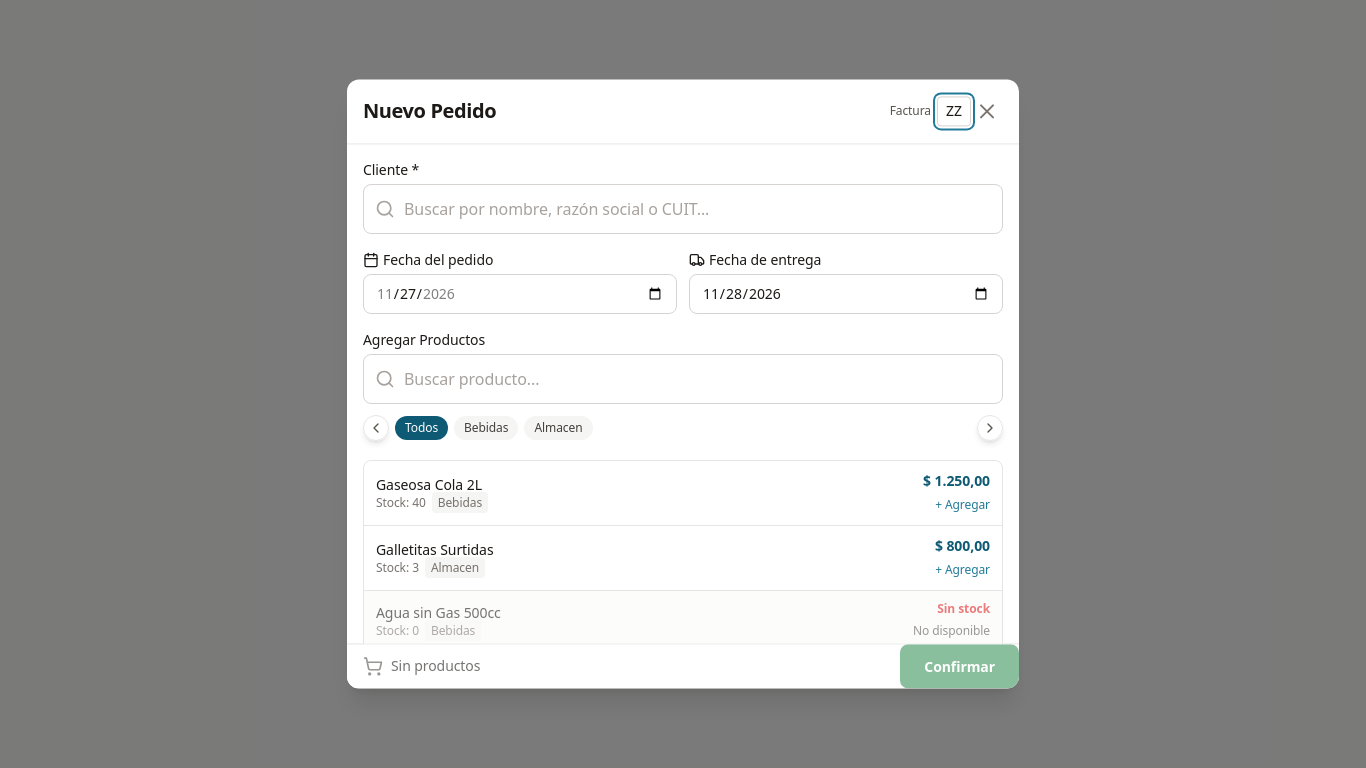
it: ModalPedido — camino feliz › el cajón del carrito se abre y se cierra desde el botón que cuenta las unidades
Type "Gaseosa" into the field with placeholder "Buscar producto..." at (683, 379), box [363, 354, 1003, 404]
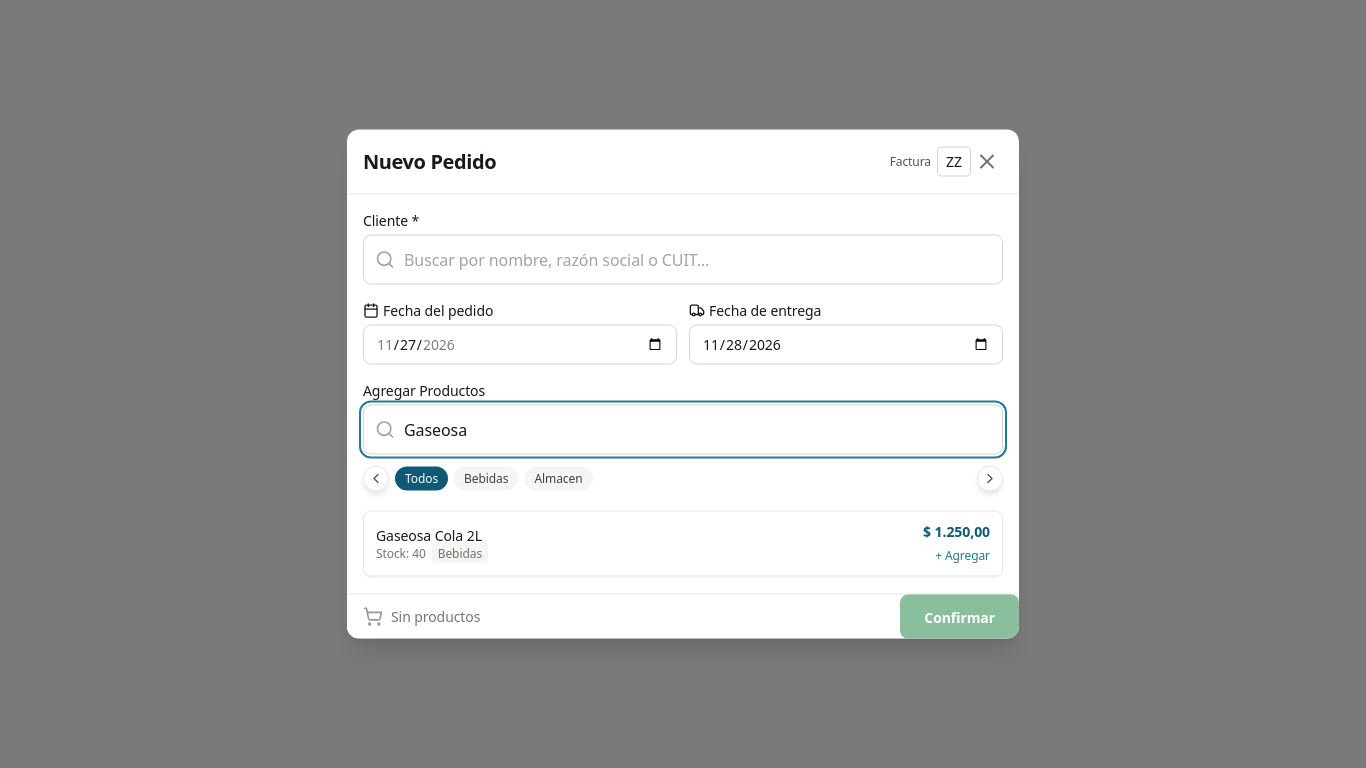
Click the text "+ Agregar" at (963, 555), box [935, 546, 990, 564]
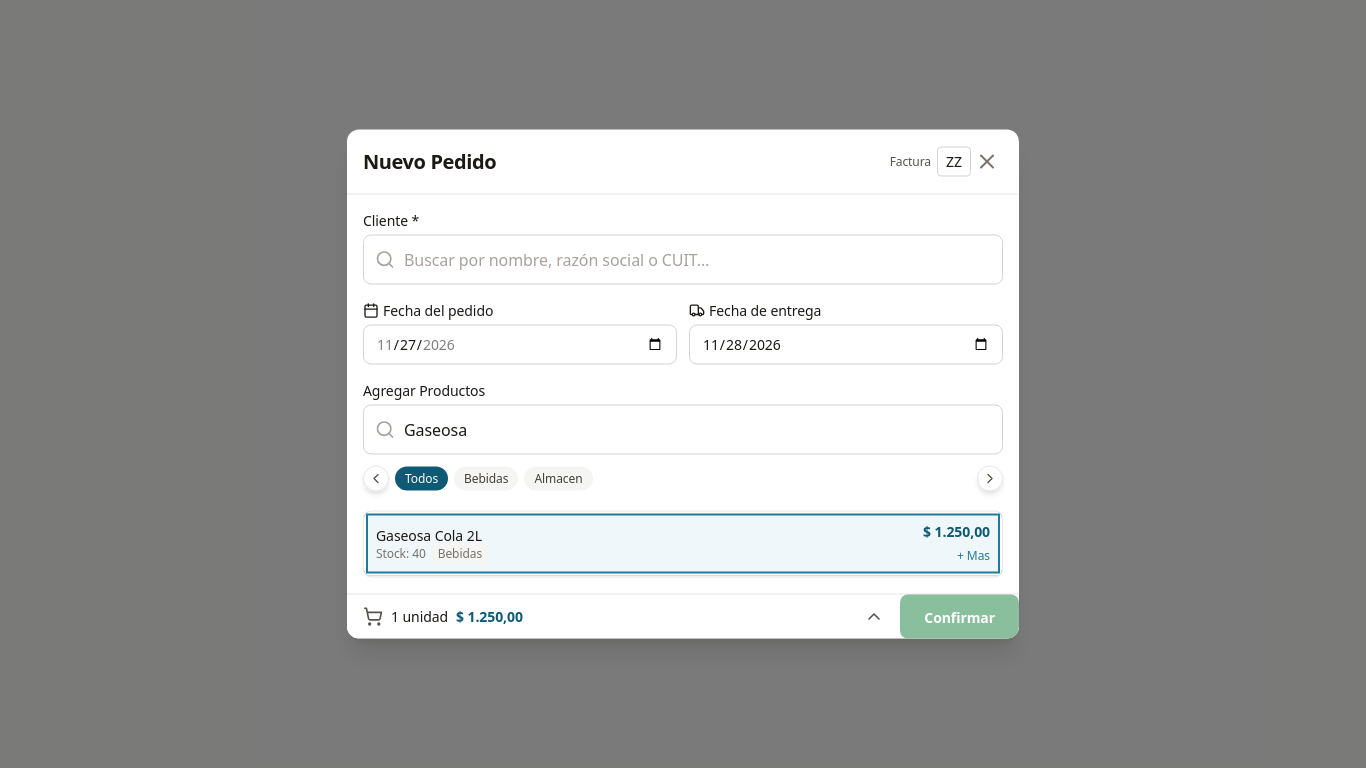
Click the button "1 unidad $ 1.250,00" at (420, 616), box [347, 594, 900, 638]
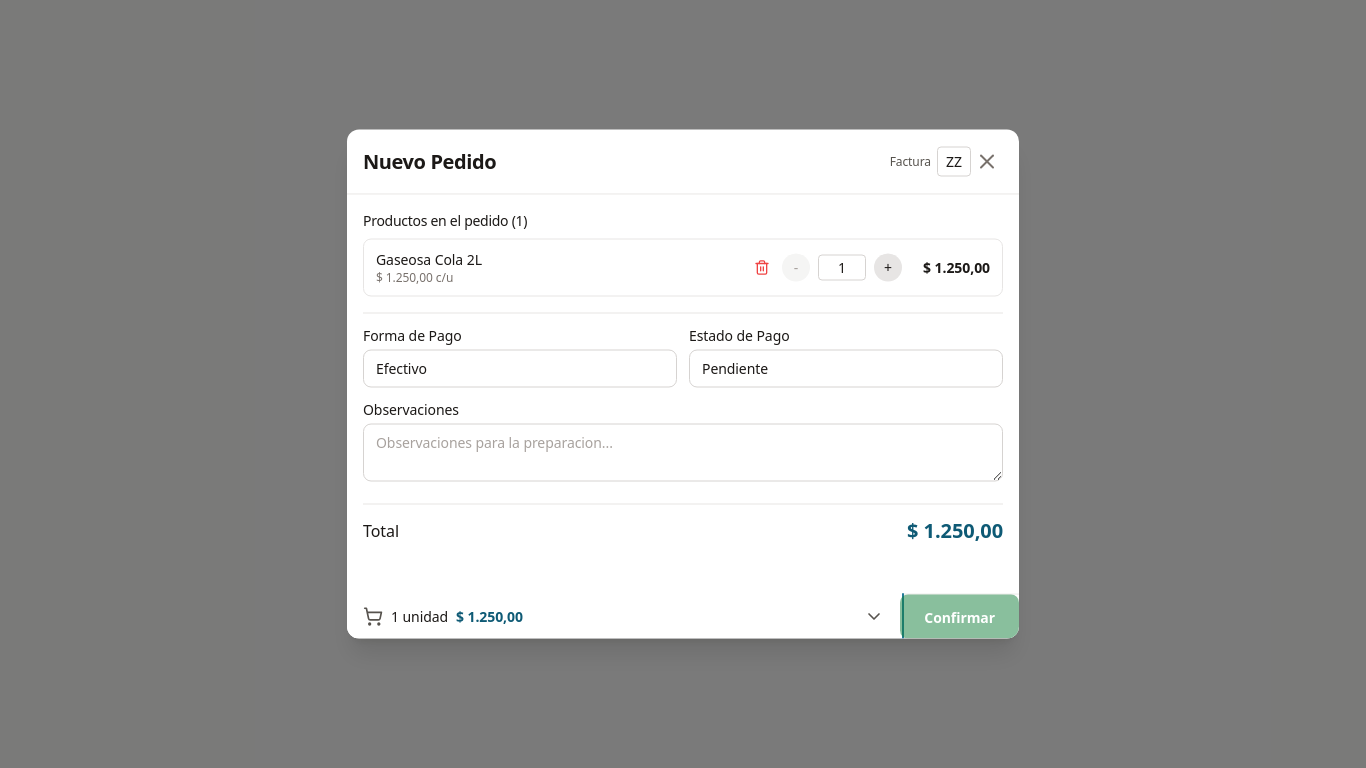
Expected: the button "1 unidad $ 1.250,00" is expanded
Expected: the heading "Productos en el pedido (1)" is shown, [363, 210, 527, 230]
Expected: the field named "Cantidad" is shown, [818, 254, 866, 280]
Click the button "1 unidad $ 1.250,00" at (420, 616), box [347, 594, 900, 638]
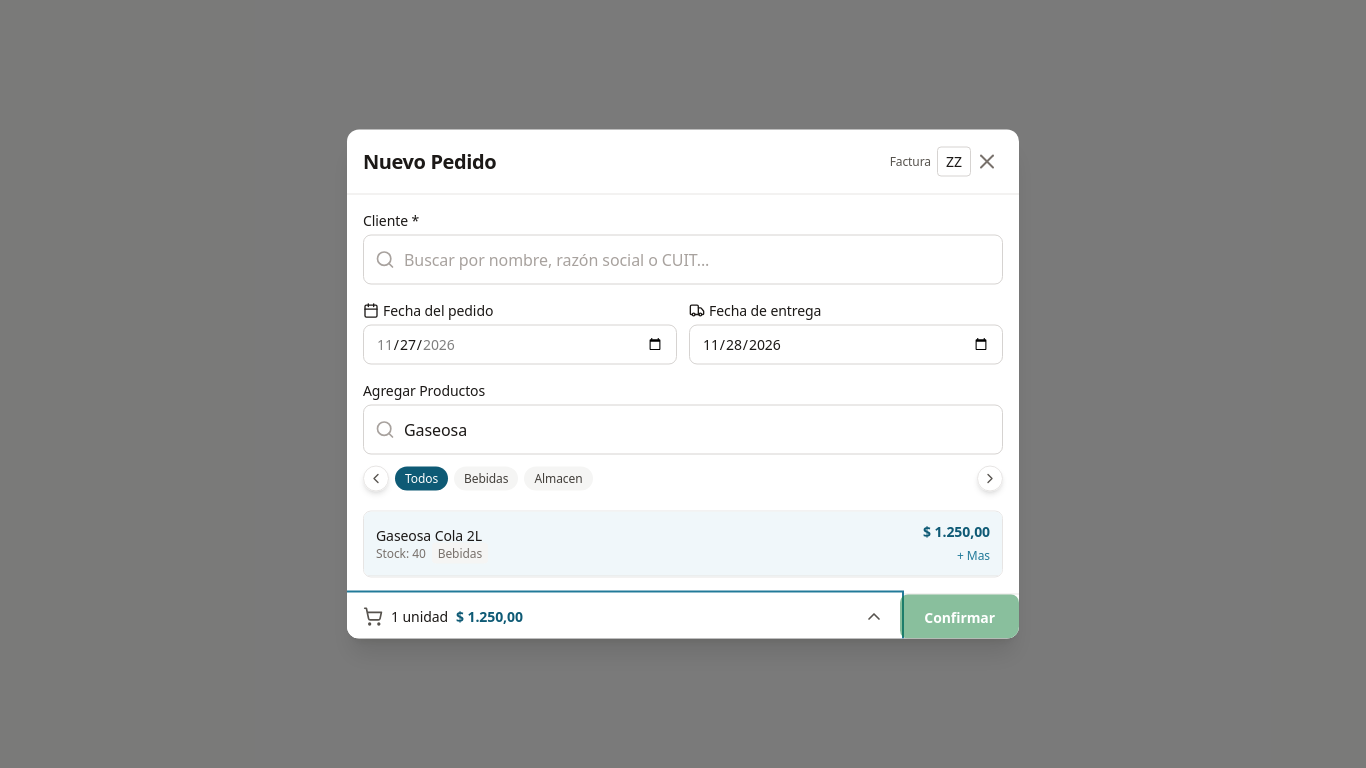
Expected: the button "1 unidad $ 1.250,00" is collapsed, [347, 594, 900, 638]
